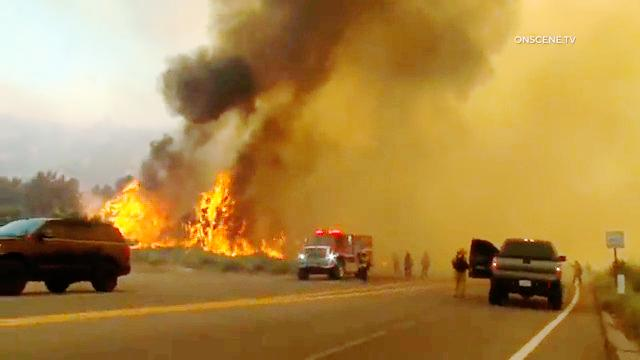fire: (119, 11, 479, 159), (182, 162, 241, 258), (94, 177, 168, 247), (250, 231, 296, 263)
